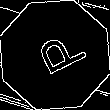P_SW: (24, 27, 86, 83)
